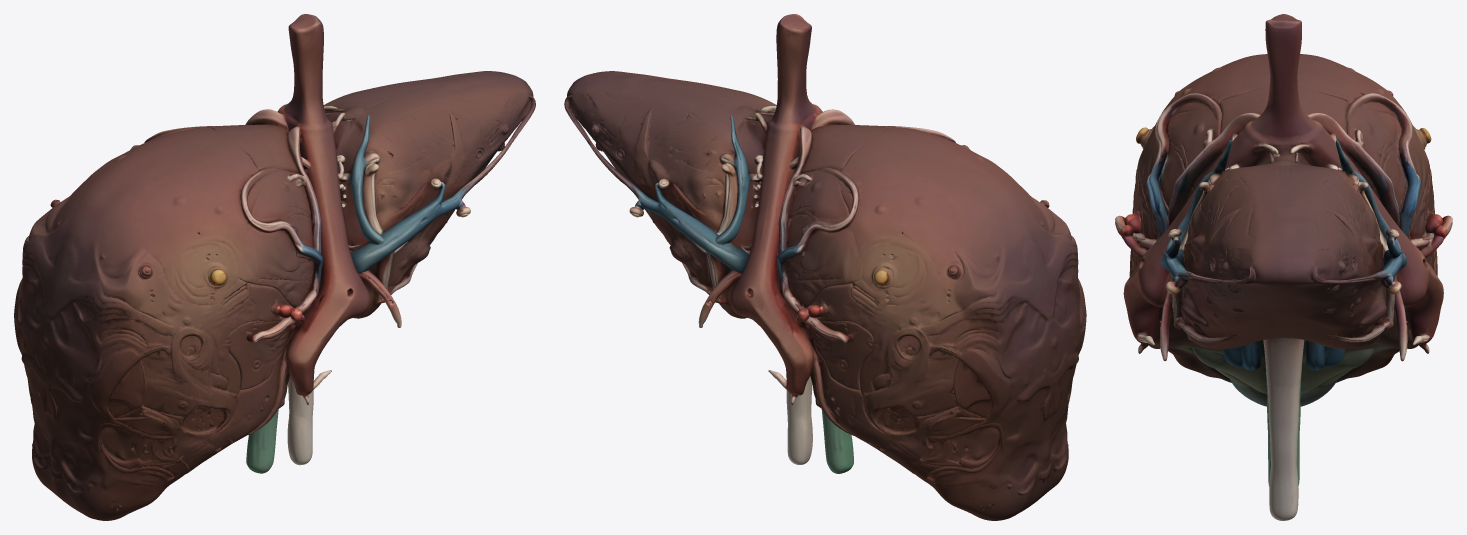
File: liver-v2.glb
The picture shows the model from 3 angles, left to right: view 1: azimuth 30°, elevation 25°; view 2: azimuth 150°, elevation 25°; view 3: azimuth 270°, elevation 25°; orthographic projection. The views are drawn at different scales.
Parts seen in each view (by area): view 1: tripo_node_e0598d20-2677-4e41-8724-4028f13db9fa; view 2: tripo_node_e0598d20-2677-4e41-8724-4028f13db9fa; view 3: tripo_node_e0598d20-2677-4e41-8724-4028f13db9fa.
Part boxes in pixels (<box>): tripo_node_e0598d20-2677-4e41-8724-4028f13db9fa: <box>14,14,535,520</box>; tripo_node_e0598d20-2677-4e41-8724-4028f13db9fa: <box>564,14,1086,520</box>; tripo_node_e0598d20-2677-4e41-8724-4028f13db9fa: <box>1115,14,1452,520</box>.
Bounding box in the file's own units: 0.9778 × 0.857 × 0.5182.
1 material, 1 textured.
